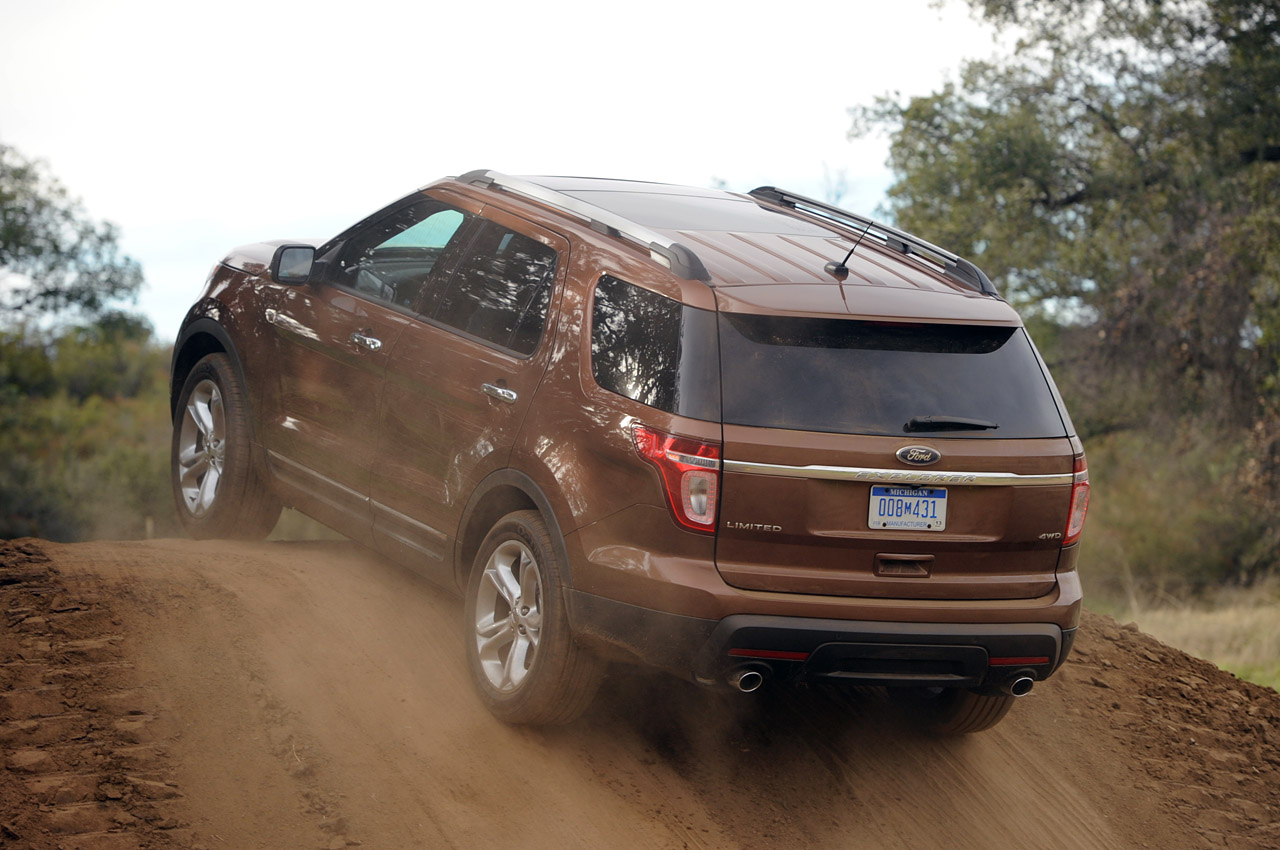Ford Explorer: (166, 164, 1094, 751)
